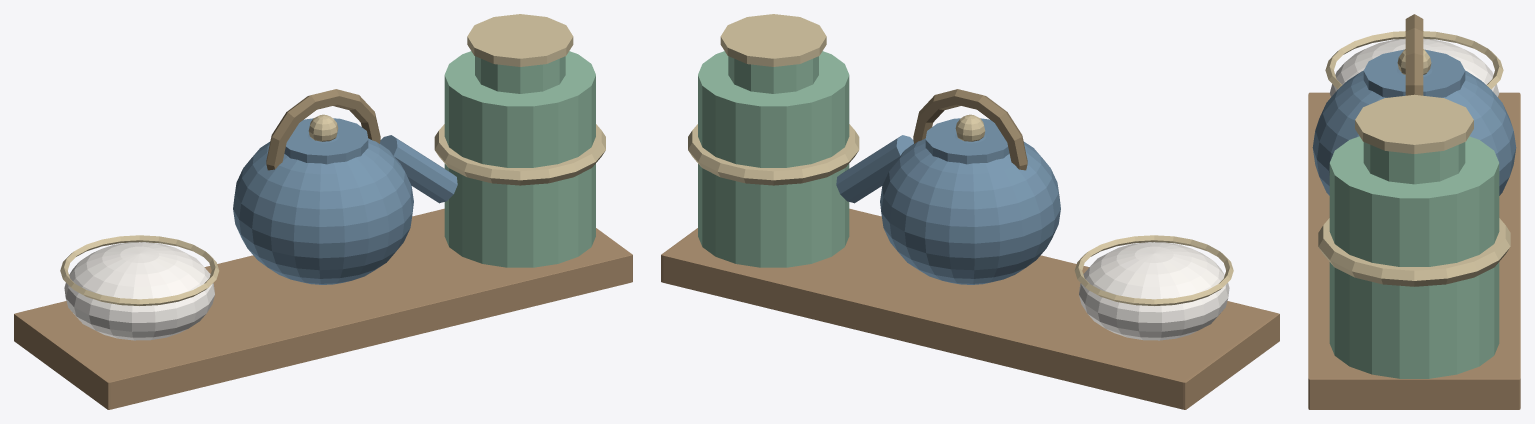
Rendered from ceramic_pot_set.glb.
The picture shows the model from 3 angles, left to right: view 1: azimuth 30°, elevation 25°; view 2: azimuth 150°, elevation 25°; view 3: azimuth 270°, elevation 25°; orthographic projection. The views are drawn at different scales.
Visible parts, largest first — view 1: ceramic_pot_set; view 2: ceramic_pot_set; view 3: ceramic_pot_set.
Part boxes in pixels (left/top/right/bottom): ceramic_pot_set: left=14, top=14, right=632, bottom=409; ceramic_pot_set: left=661, top=14, right=1279, bottom=409; ceramic_pot_set: left=1308, top=14, right=1520, bottom=409.
Size of the model in its own units: 0.815 by 0.331 by 0.25.
